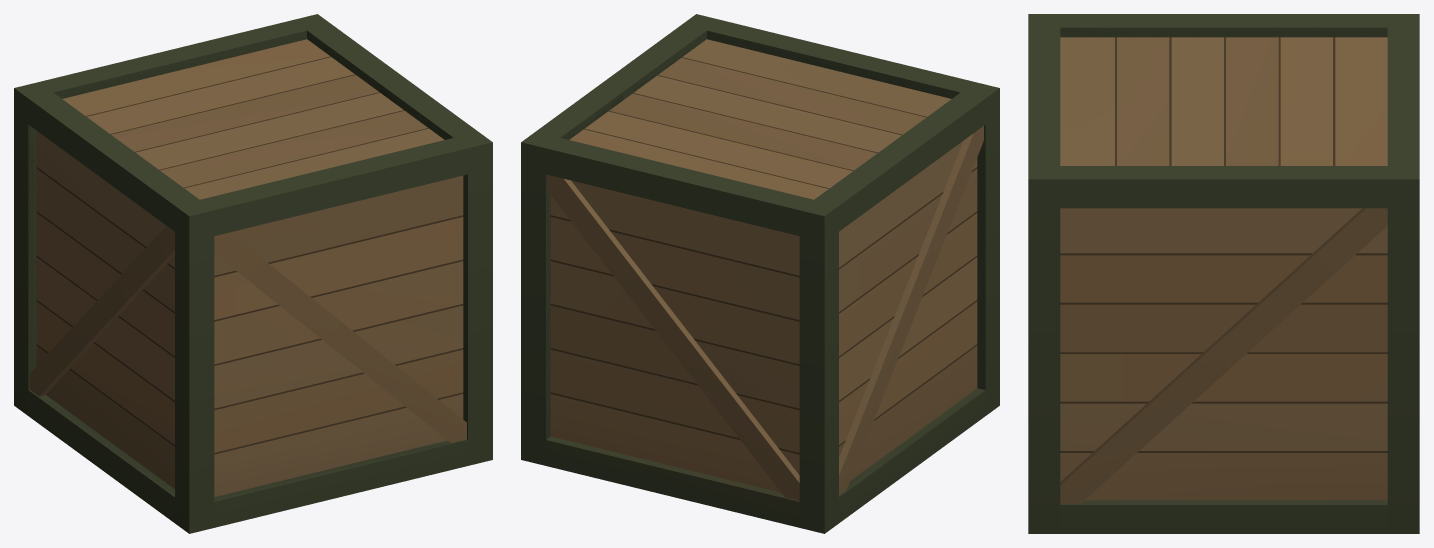
File: crate.framed.olive.glb
The picture shows the model from 3 angles, left to right: view 1: azimuth 30°, elevation 25°; view 2: azimuth 150°, elevation 25°; view 3: azimuth 270°, elevation 25°; orthographic projection. The views are drawn at different scales.
Parts seen in each view (by area): view 1: crate_framed_olive; view 2: crate_framed_olive; view 3: crate_framed_olive.
Part boxes in pixels (x1,y1,x2,y2): crate_framed_olive: (14, 14, 492, 533); crate_framed_olive: (521, 14, 999, 533); crate_framed_olive: (1028, 14, 1419, 533).
Size of what is drawn, in the model's own units: 1.1 by 1.1 by 1.1.
